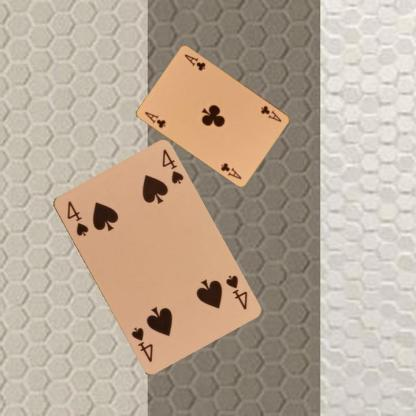4s: (64, 198, 90, 238), (223, 272, 249, 311)
Ac: (142, 108, 167, 130), (258, 103, 283, 123)
